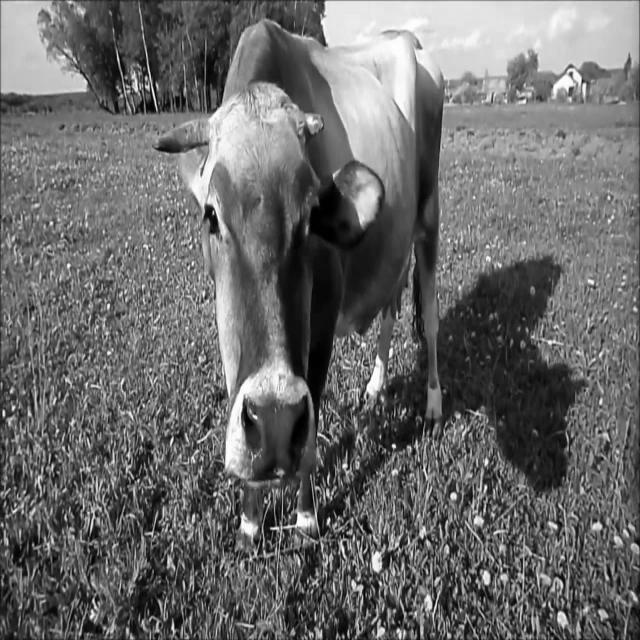cow: (156, 20, 444, 554)
